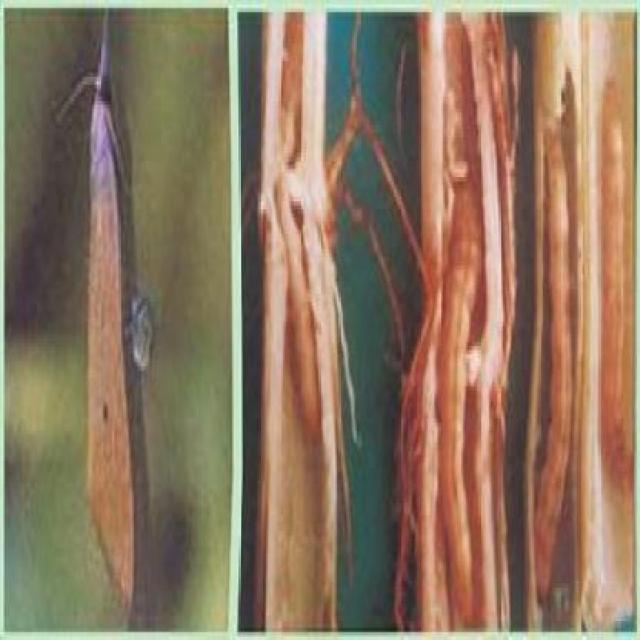stem-borer: (83, 8, 135, 624)
